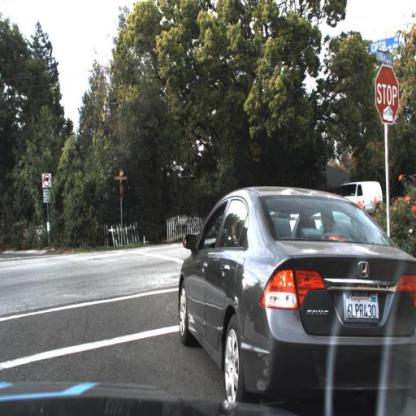car: (169, 180, 416, 404), (333, 181, 386, 220)
